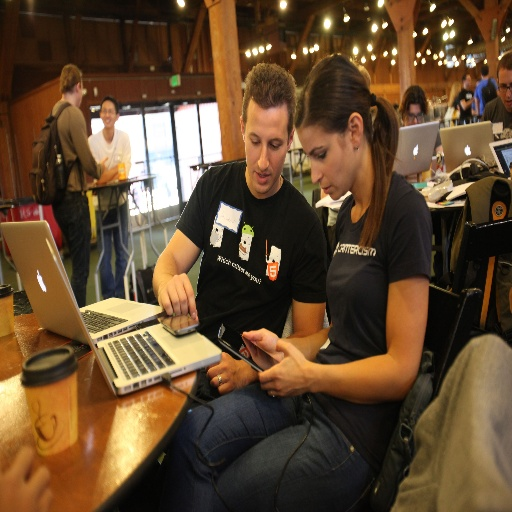hand: (255, 338, 311, 401), (154, 265, 196, 327), (203, 350, 250, 395), (241, 326, 285, 361), (98, 153, 108, 169)
